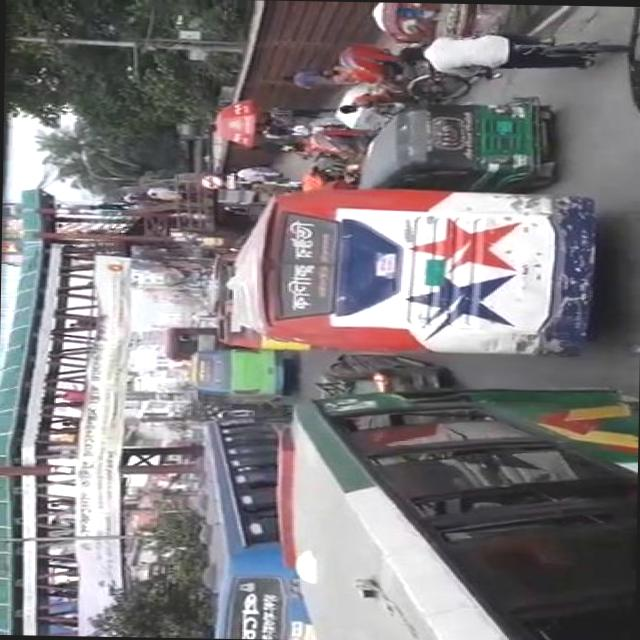bus: (268, 380, 633, 640), (229, 184, 598, 354), (195, 409, 317, 639), (184, 344, 282, 404), (158, 323, 218, 362)
car: (316, 351, 446, 398)
motorcycle: (354, 92, 554, 191), (332, 40, 468, 119), (360, 0, 507, 44), (305, 121, 368, 176)
